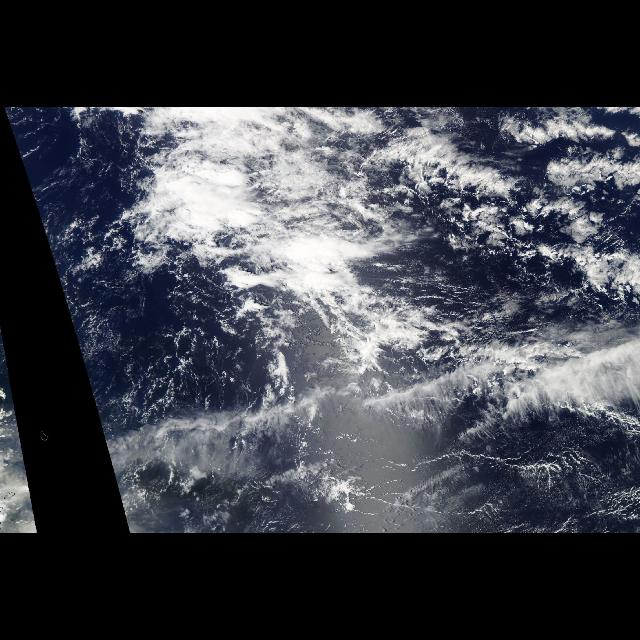Fish: (125, 380, 473, 502), (404, 154, 636, 292)
Sugar: (326, 442, 640, 532)
